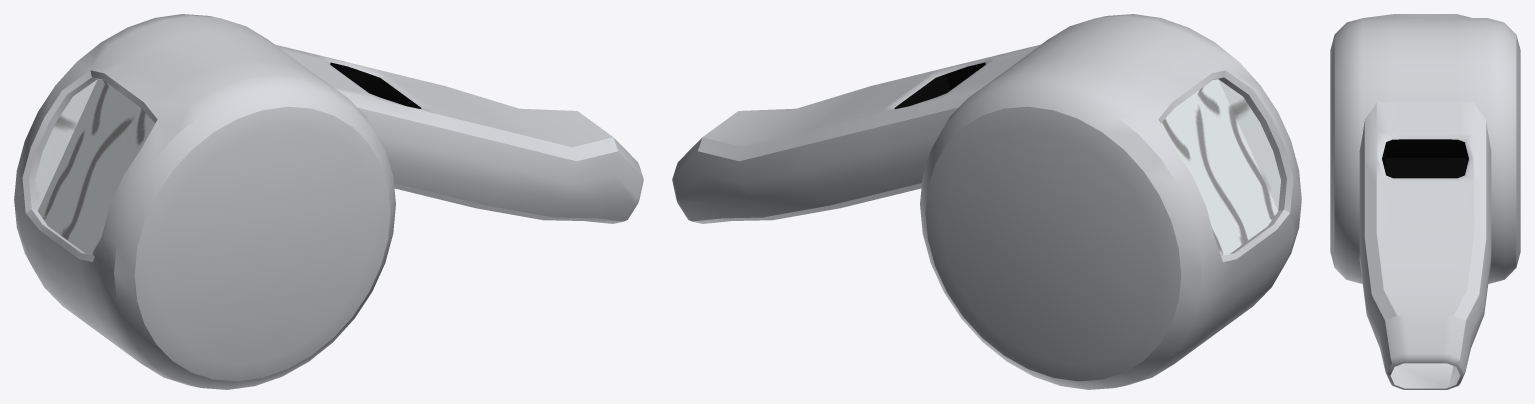
Rendered from item-whistle.glb.
The picture shows the model from 3 angles, left to right: view 1: azimuth 30°, elevation 25°; view 2: azimuth 150°, elevation 25°; view 3: azimuth 270°, elevation 25°; orthographic projection. The views are drawn at different scales.
Size of the model in its own units: 3.89 by 2 by 1.43.
3 materials, 1 textured.
